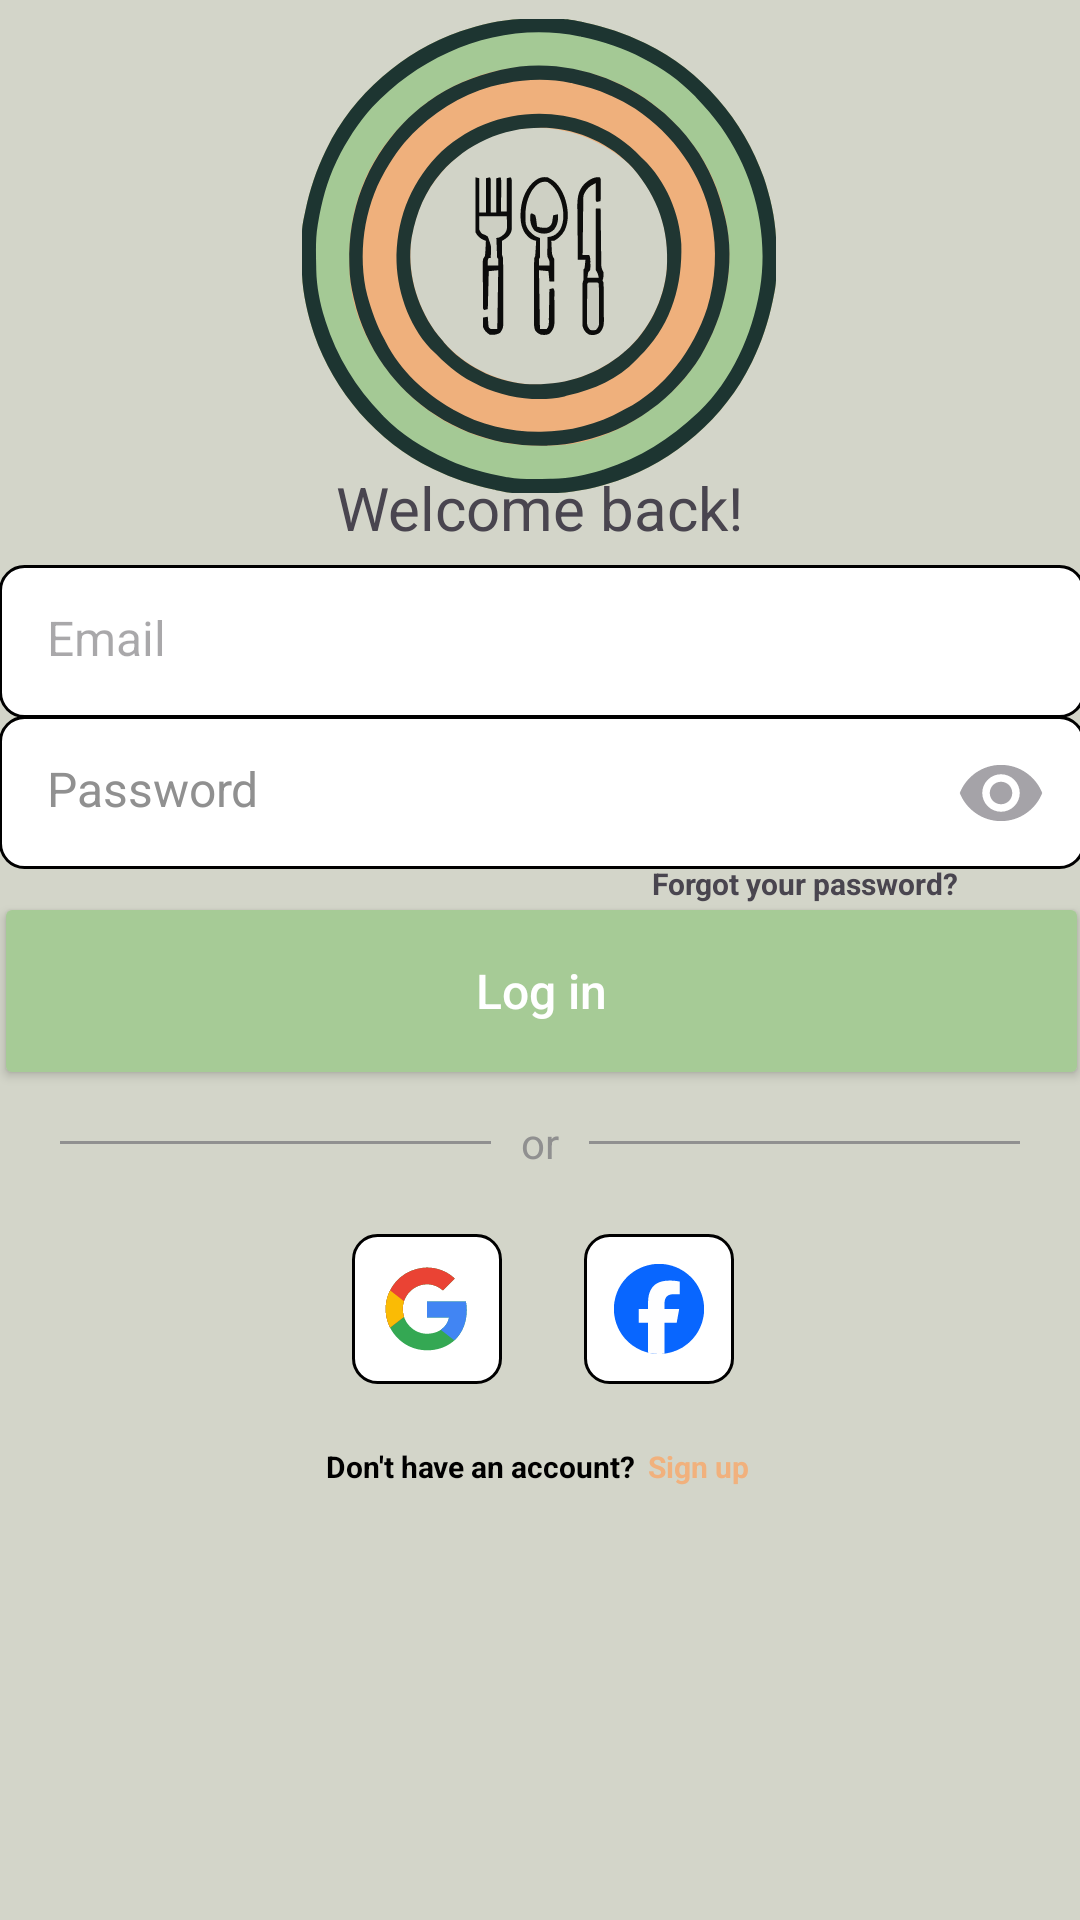

Named icons in this screenshot (1080x1920) and their centers, (x,y):
eye open: (1001,793)
